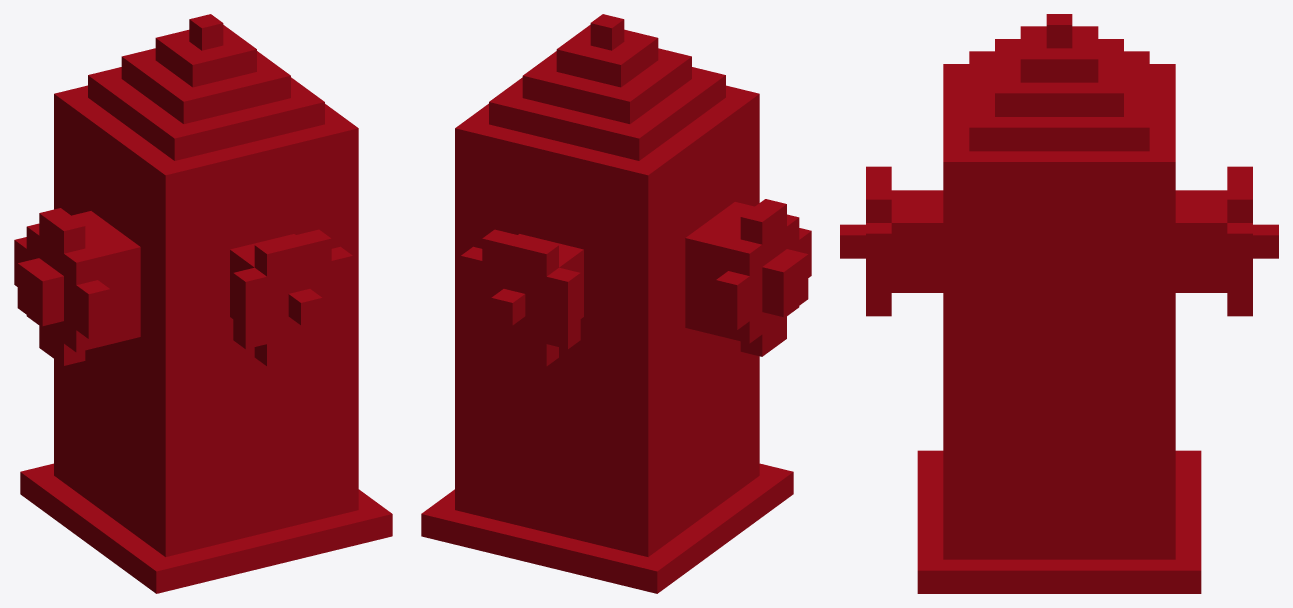
Rendered from Hydrant.dae.
The picture shows the model from 3 angles, left to right: view 1: azimuth 30°, elevation 25°; view 2: azimuth 150°, elevation 25°; view 3: azimuth 270°, elevation 25°; orthographic projection. The views are drawn at different scales.
Parts seen in each view (by area): view 1: Matrix; view 2: Matrix; view 3: Matrix.
Part boxes in pixels (x1,y1,x2,y2): Matrix: [14, 14, 392, 593]; Matrix: [421, 14, 811, 593]; Matrix: [840, 14, 1278, 593].
Size of the model in its own units: 14 by 22 by 17.
1 material, 1 textured.
